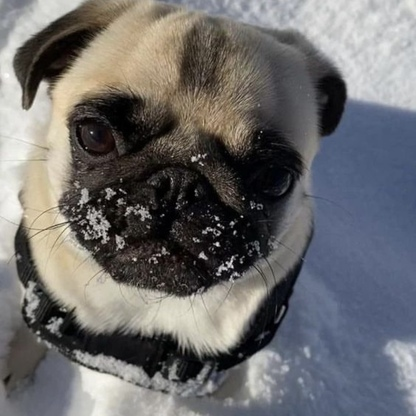Pug: (8, 1, 360, 416)
